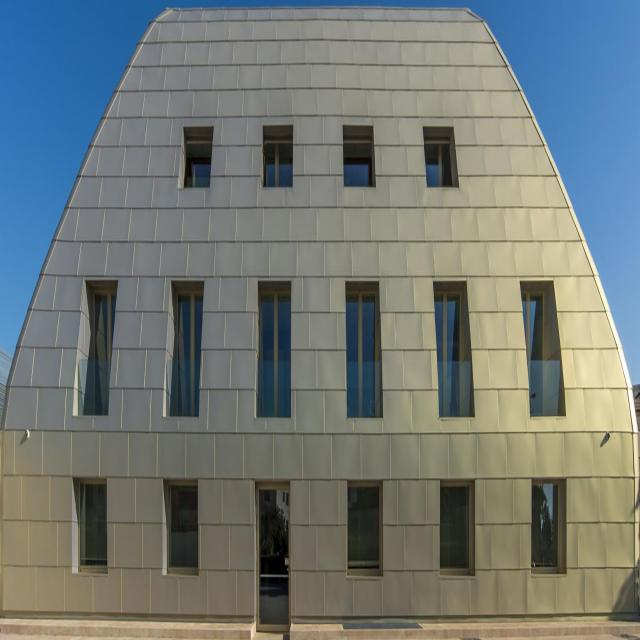door: (258, 488, 290, 636)
railing: (527, 358, 568, 416), (347, 359, 386, 419), (256, 356, 292, 417), (439, 361, 475, 419), (165, 359, 199, 414), (79, 357, 109, 416)
window: (521, 291, 567, 415), (346, 292, 385, 418), (78, 290, 117, 412), (435, 295, 474, 417), (167, 294, 204, 412), (257, 287, 290, 417), (75, 477, 106, 567), (345, 487, 379, 569), (169, 484, 198, 576), (442, 483, 470, 570), (535, 483, 559, 569), (266, 146, 294, 183), (344, 152, 373, 185), (183, 154, 211, 186), (425, 154, 449, 187)
